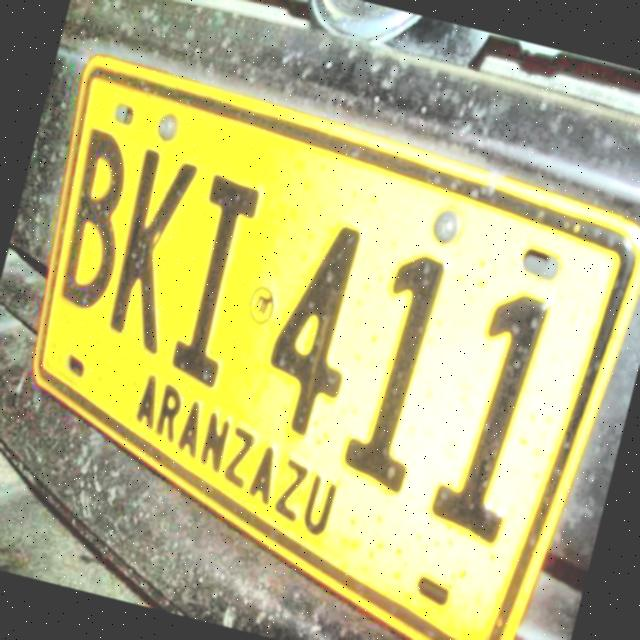1: (421, 274, 569, 555), (327, 240, 470, 505)
4: (250, 211, 384, 452)
B: (55, 122, 138, 321)
I: (163, 167, 270, 396)
K: (102, 144, 206, 361)
